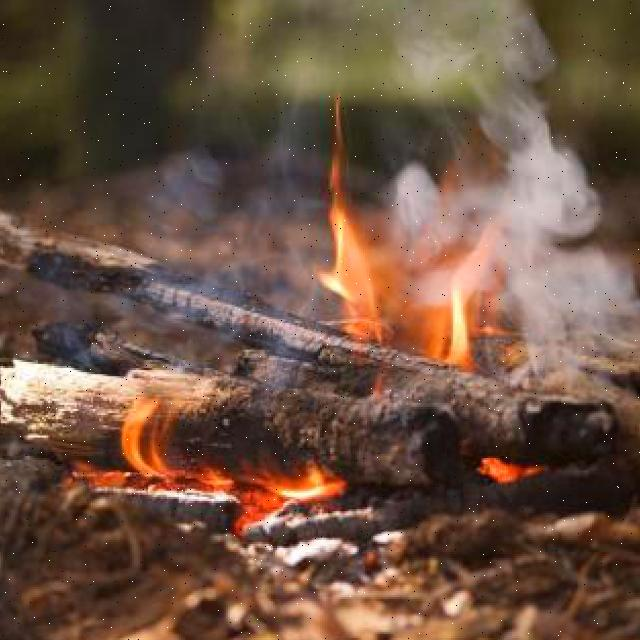fire: (275, 108, 410, 354), (105, 391, 357, 513)
smoke: (442, 29, 616, 409)
